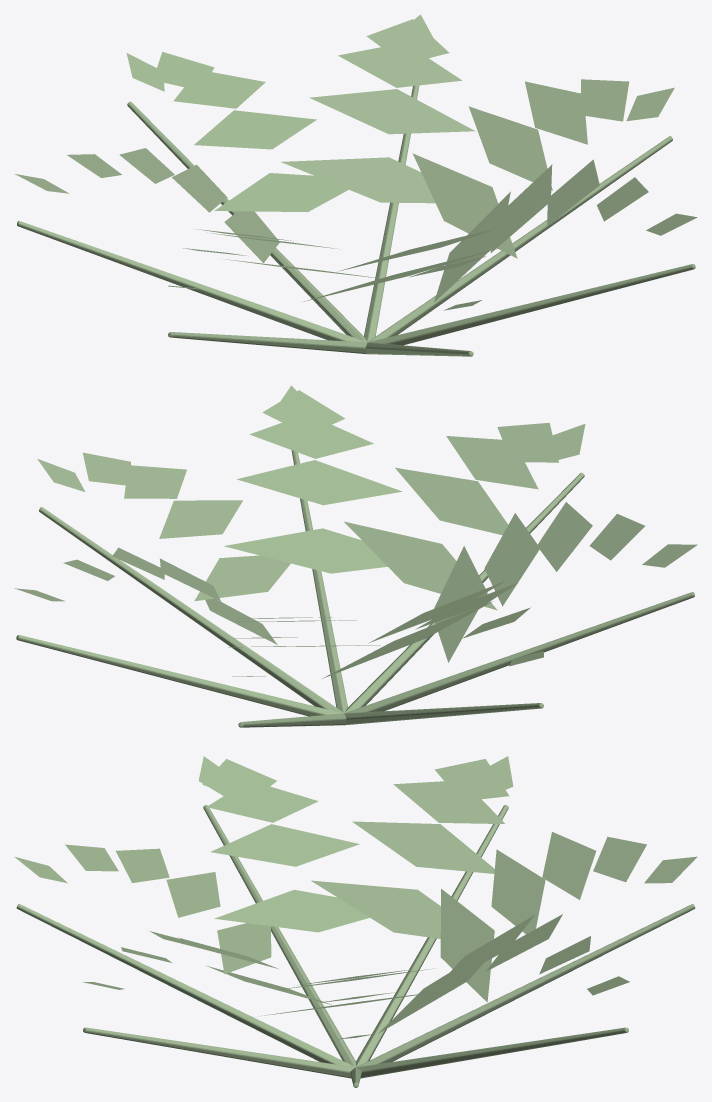
The model's file is SM_Fern_UV7903.fbx.
3 renders of one model, top to bottom at view 1: azimuth 30°, elevation 25°; view 2: azimuth 150°, elevation 25°; view 3: azimuth 270°, elevation 25°, orthographic.
Parts seen in each view (by area): view 1: SM_Fern_UV7903; view 2: SM_Fern_UV7903; view 3: SM_Fern_UV7903.
Boxes of the visible parts, left/top/right/bottom form: SM_Fern_UV7903: left=15, top=14, right=697, bottom=356; SM_Fern_UV7903: left=14, top=385, right=697, bottom=727; SM_Fern_UV7903: left=14, top=756, right=697, bottom=1087.
Size of the model in its own units: 202 by 207 by 68.34.
